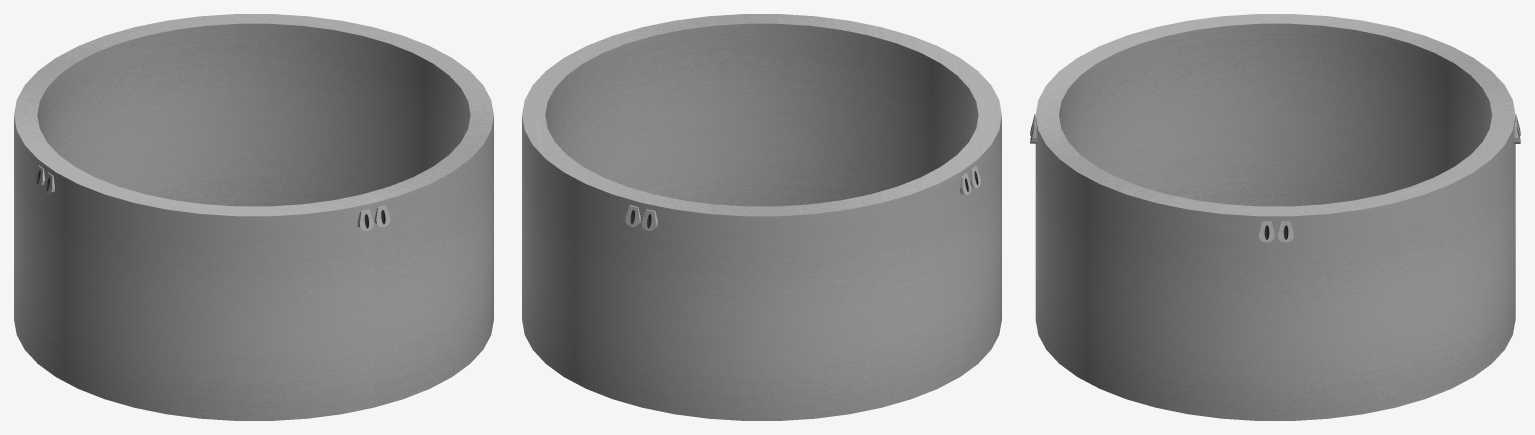
Rendered from BFRdecouplerblend.fbx.
3 renders of one model, left to right at view 1: azimuth 30°, elevation 25°; view 2: azimuth 150°, elevation 25°; view 3: azimuth 270°, elevation 25°, orthographic.
Visible parts, largest first — view 1: Cylinder, Cube.000; view 2: Cylinder, Cube.000; view 3: Cylinder, Cube.000.
Boxes of the visible parts, bbox=[...] form: Cylinder: bbox=[14, 14, 493, 420]; Cube.000: bbox=[34, 165, 390, 231]; Cylinder: bbox=[522, 14, 1001, 420]; Cube.000: bbox=[625, 166, 980, 230]; Cylinder: bbox=[1035, 14, 1515, 420]; Cube.000: bbox=[1030, 114, 1520, 242].
Size of what is drawn, in the model's own units: 802 by 370 by 804.
2 materials, 2 textured.
